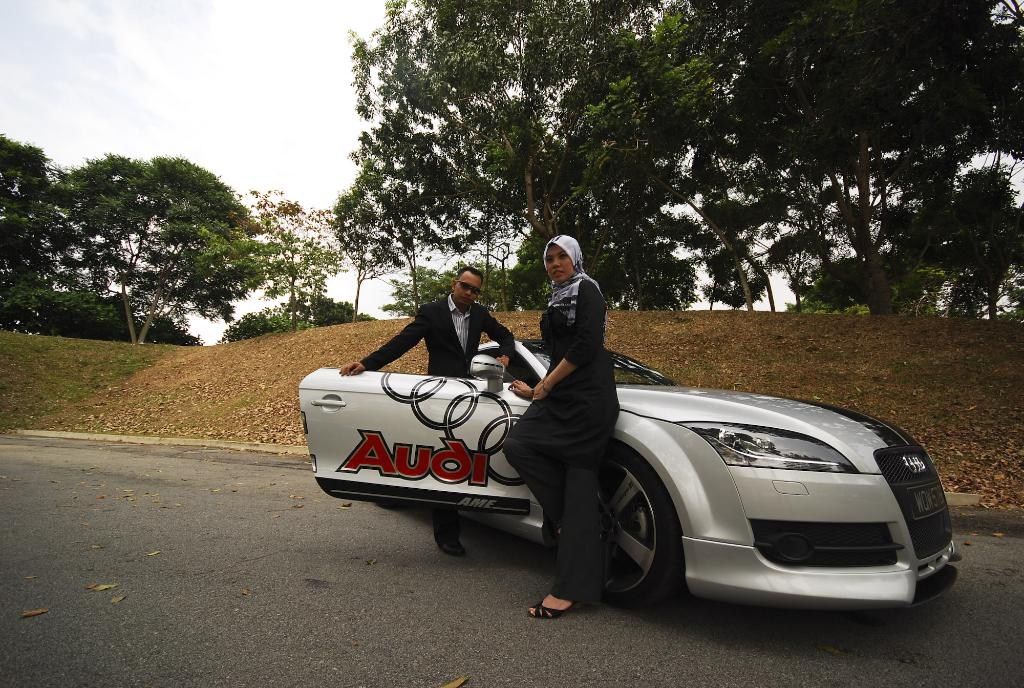Car: (299, 342, 931, 629)
